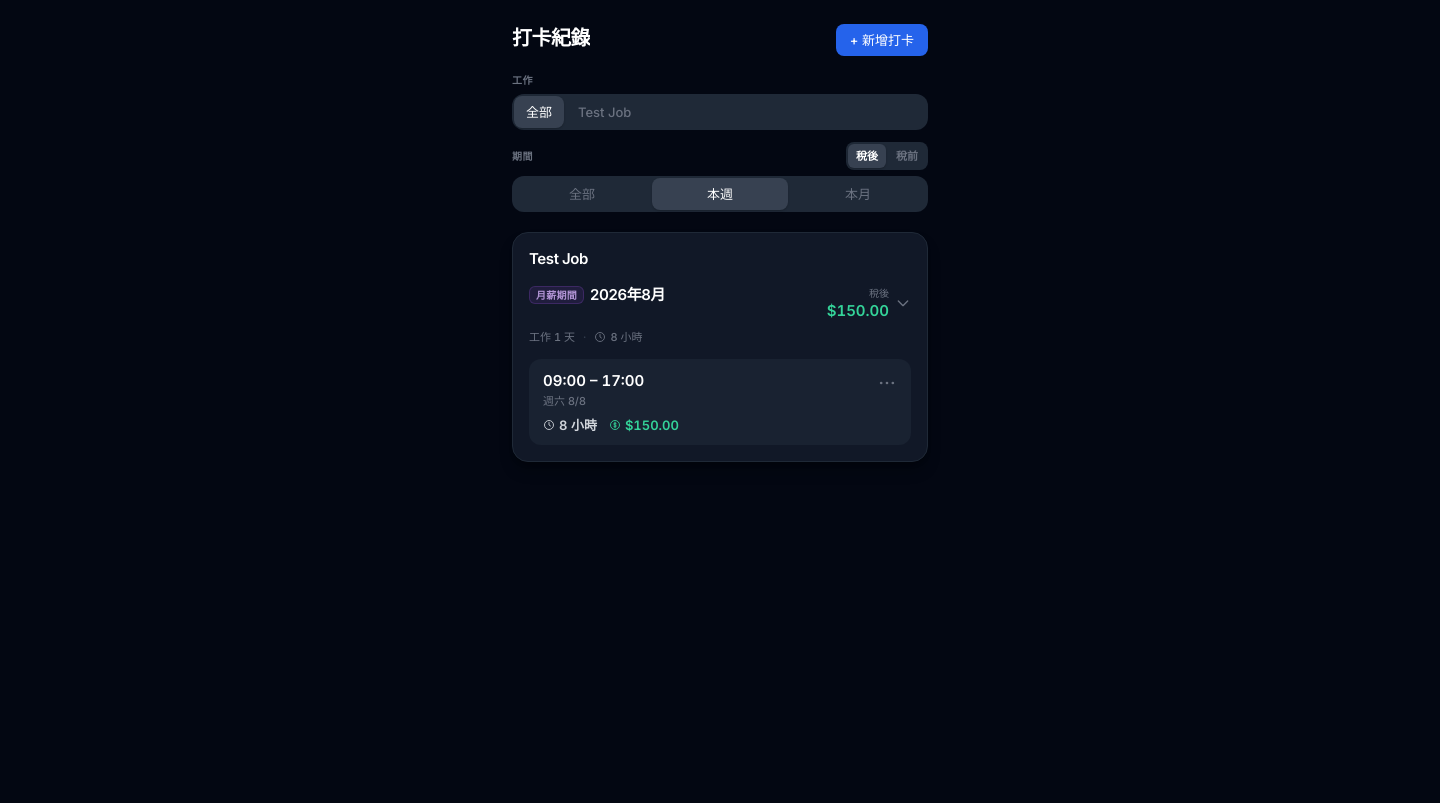
RecordsPage — 編輯紀錄休息欄位 › 時薪制工作的紀錄，編輯時顯示休息時間欄位
Click the button named "更多操作".
click(887, 383)  # box [869,365,905,401]
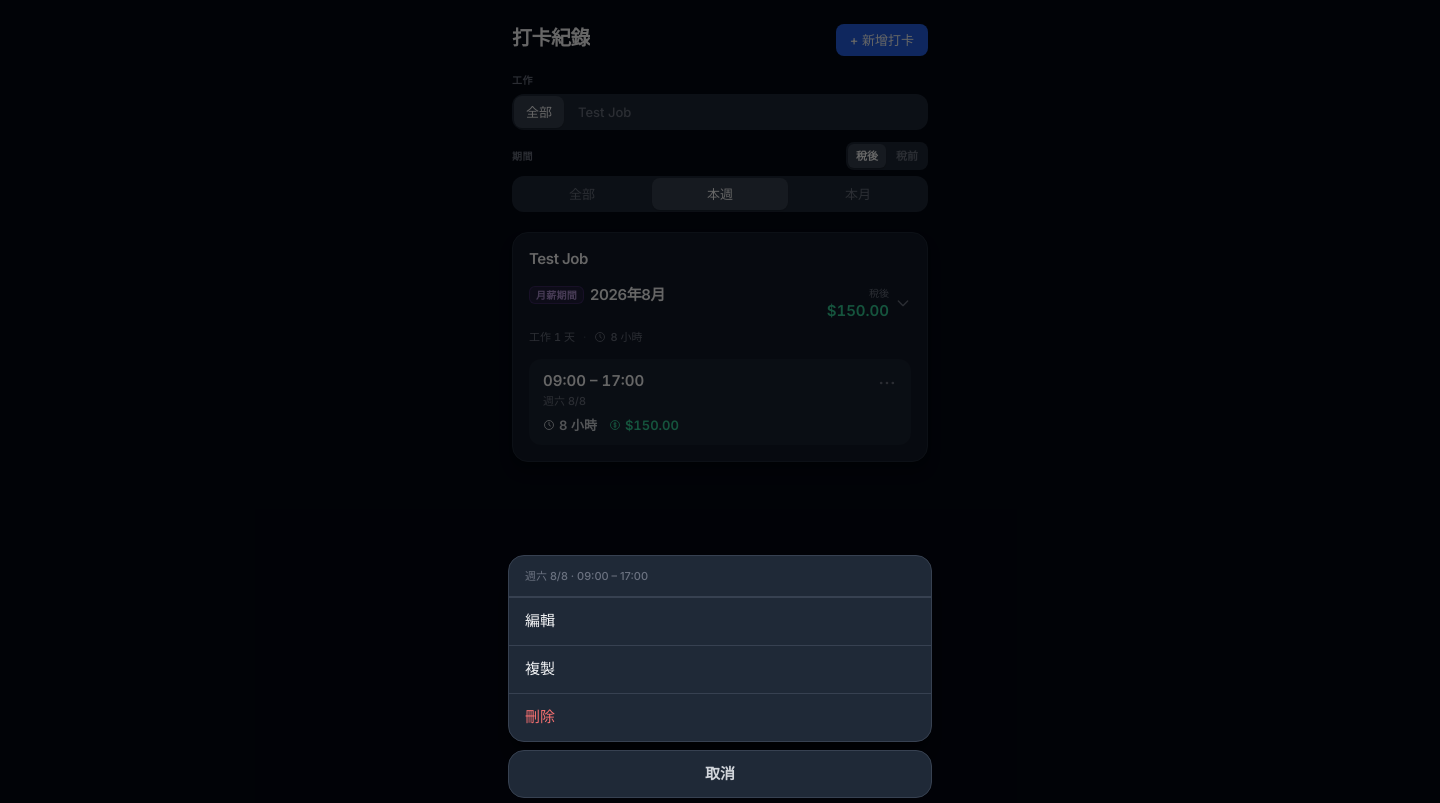
Click the button "編輯".
click(540, 621)  # box [509,597,931,645]
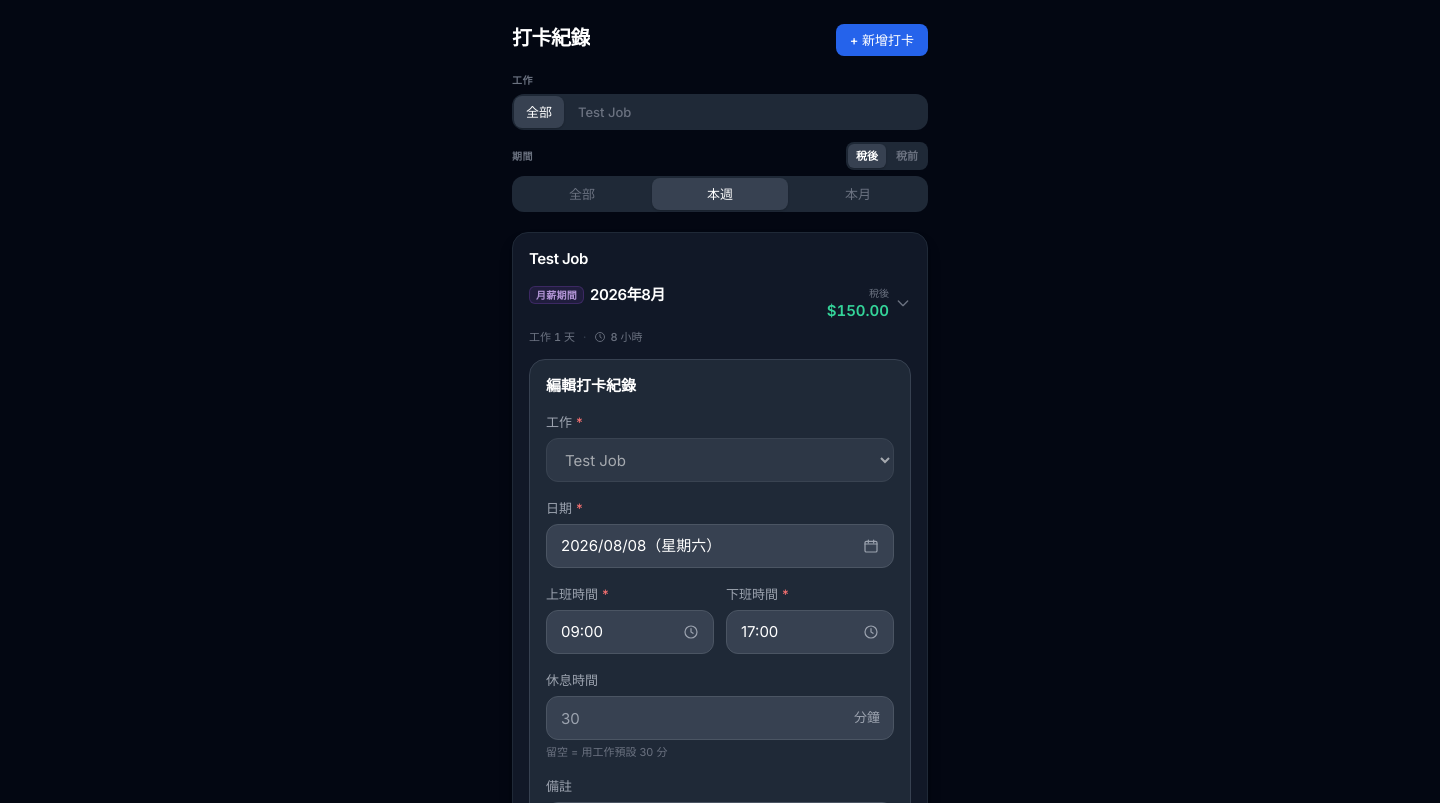
Expected: the text "休息時間" is shown, [546,672,598,688]
